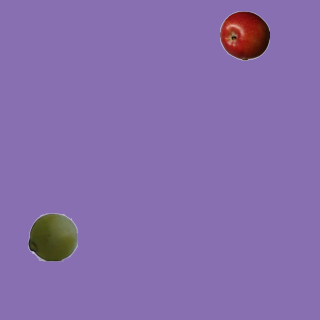Apple Braeburn: (219, 10, 269, 60)
Grape White 4: (27, 211, 77, 261)
